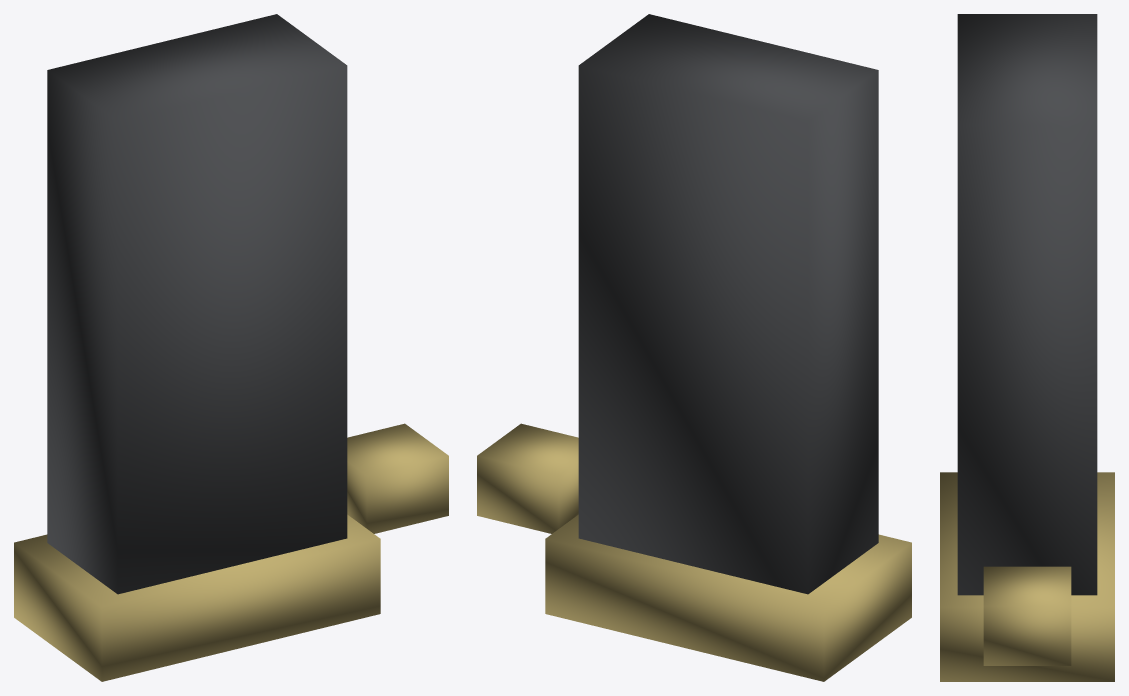
File: dock_bumper_08.glb
3 renders of one model, left to right at view 1: azimuth 30°, elevation 25°; view 2: azimuth 150°, elevation 25°; view 3: azimuth 270°, elevation 25°, orthographic.
Visible parts, largest first — view 1: world; view 2: world; view 3: world.
Part boxes in pixels (x1,y1,x2,y2): world: (14, 14, 448, 681); world: (477, 14, 911, 681); world: (940, 14, 1114, 681).
Size of the model in its own units: 0.504 by 0.7154 by 0.208.
